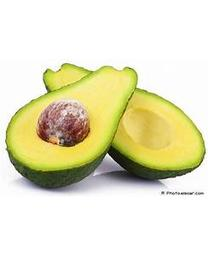avocado: (43, 64, 206, 180), (5, 65, 137, 190)
